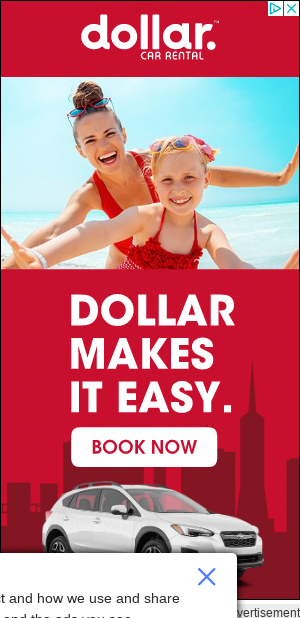fake_button: (64, 423, 231, 481), (252, 3, 300, 28)
